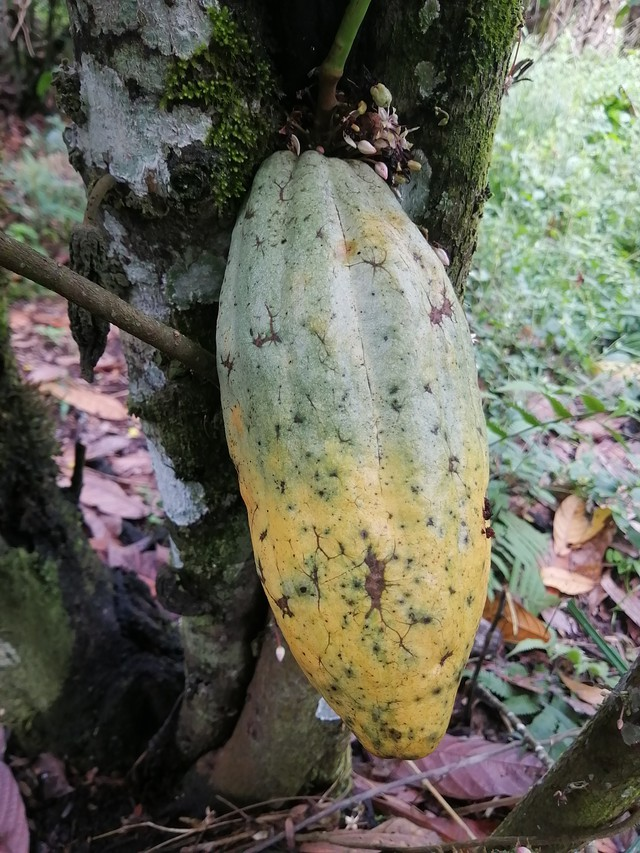carmenta foraseminis: (210, 140, 500, 769)
